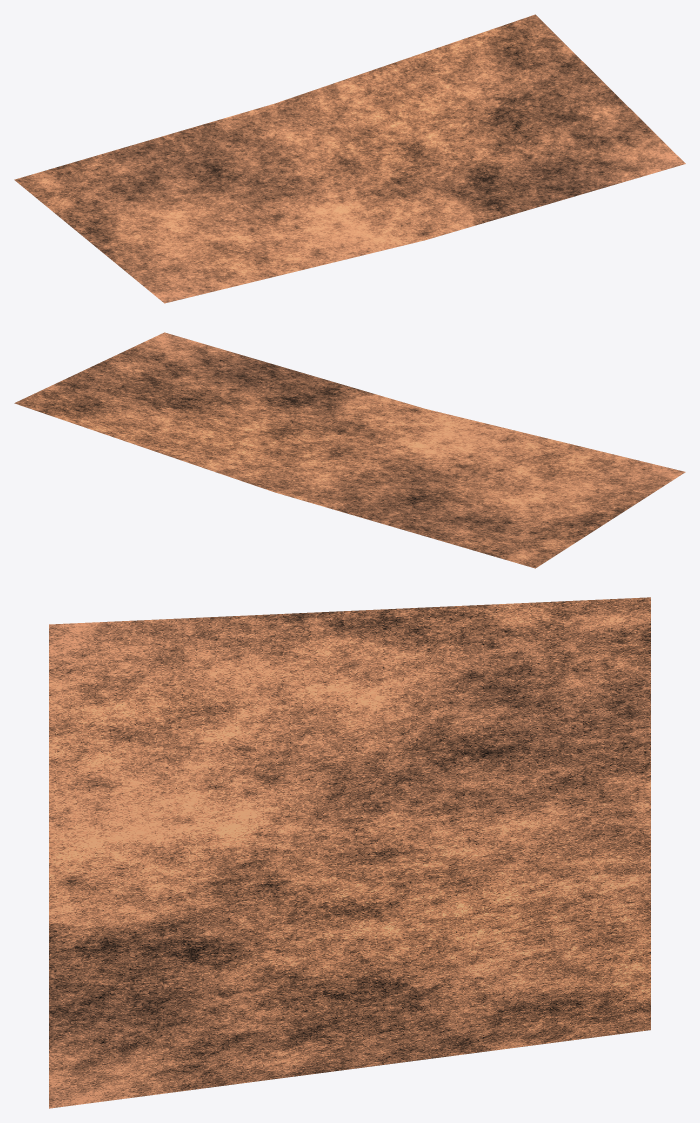
The model's file is terrain_11_07.dae.
The picture shows the model from 3 angles, top to bottom: view 1: azimuth 30°, elevation 25°; view 2: azimuth 150°, elevation 25°; view 3: azimuth 270°, elevation 25°; orthographic projection. The views are drawn at different scales.
Parts seen in each view (by area): view 1: terrain_11_07-node; view 2: terrain_11_07-node; view 3: terrain_11_07-node.
Part boxes in pixels (x1,y1,x2,y2): terrain_11_07-node: [14, 14, 685, 303]; terrain_11_07-node: [14, 332, 685, 568]; terrain_11_07-node: [49, 597, 650, 1108].
Bounding box in the file's own units: 8 × 4 × 0.7632.
Materials: 1 (1 with a texture image).
